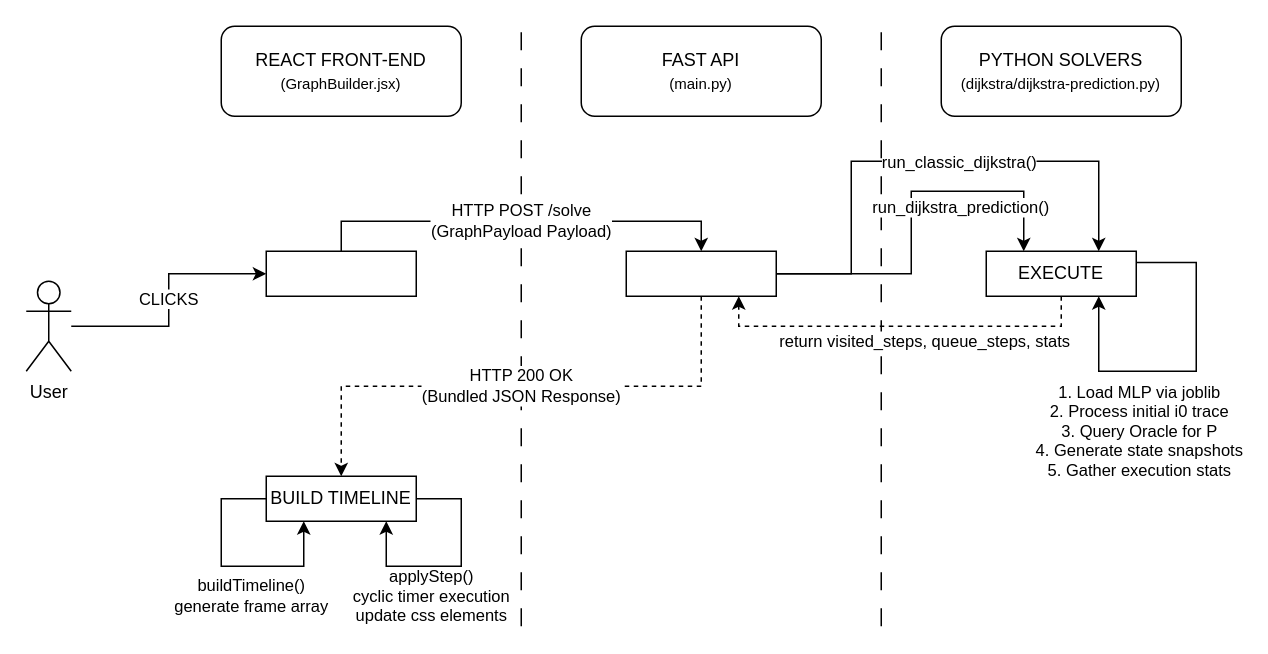
Some shapes in this 1268 by 654 pixel diagram are drawn without their labels. Here are the shapes that lost their labels. From the top down, the centre of each, then its label:
pixel 340 273: RUN
pixel 700 273: REST API
